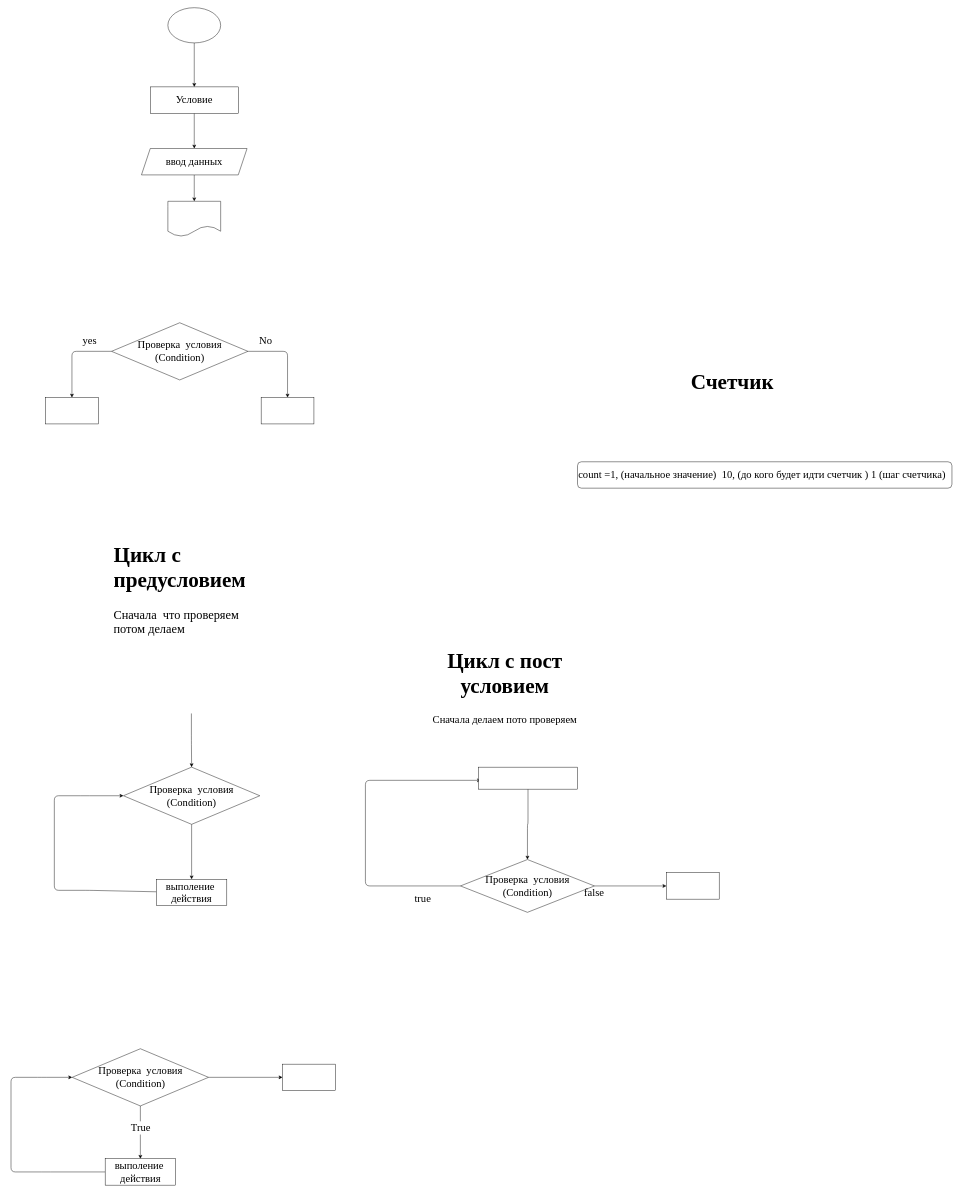
Image size: 960x1193. Some labels were removed from this diagram. The shapes that lost their labels are listed below. From the top down, each one's centre as x and y in pixels, then its label:
(x=194, y=25): Start
(x=194, y=218): результат
(x=528, y=778): выполение условия
